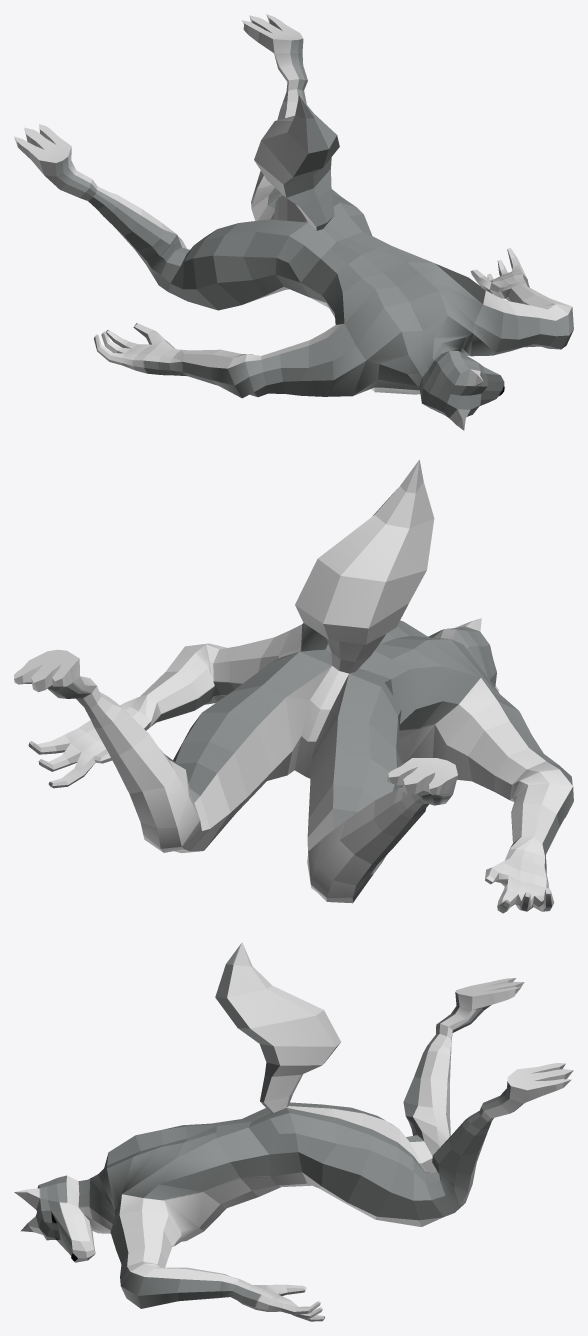
Rendered from WolfDead(82).obj.
The picture shows the model from 3 angles, top to bottom: view 1: azimuth 30°, elevation 25°; view 2: azimuth 150°, elevation 25°; view 3: azimuth 270°, elevation 25°; orthographic projection. The views are drawn at different scales.
Parts seen in each view (by area): view 1: Box001; view 2: Box001; view 3: Box001.
Boxes of the visible parts, box(x1,y1,x2,y2) form: Box001: box(14, 14, 573, 430); Box001: box(14, 459, 573, 913); Box001: box(14, 942, 573, 1321).
Bounding box in the file's own units: 123 × 79.64 × 150.
